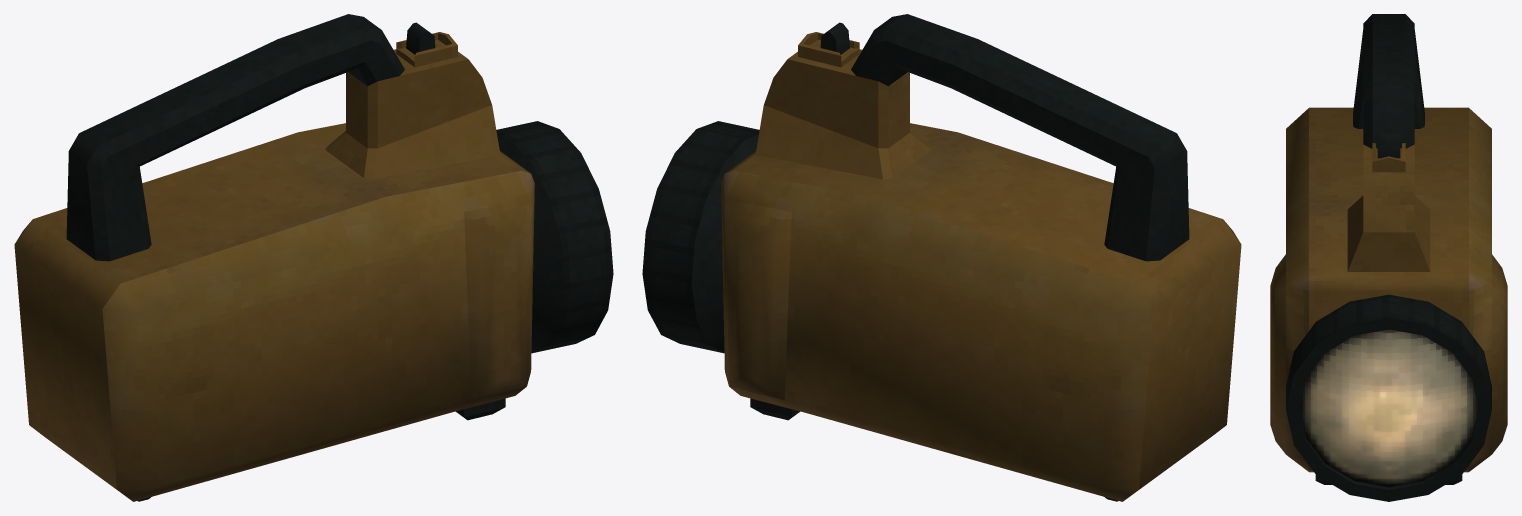
The model's file is flashlight_1.glb.
3 views of the same model, side by side, from view 1: azimuth 30°, elevation 25°; view 2: azimuth 150°, elevation 25°; view 3: azimuth 270°, elevation 25° (orthographic). The views are drawn at different scales.
Parts seen in each view (by area): view 1: flashlight_1; view 2: flashlight_1; view 3: flashlight_1.
Part boxes in pixels (x1=…): flashlight_1: x1=14, y1=14, x2=613, y2=501; flashlight_1: x1=642, y1=14, x2=1241, y2=501; flashlight_1: x1=1270, y1=14, x2=1507, y2=501.
Size of the model in its own units: 0.3801 by 0.2745 by 0.1656.
Materials: 1 (1 with a texture image).
